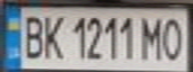1: (118, 12, 139, 61), (66, 12, 87, 61), (103, 12, 121, 61)
2: (84, 12, 106, 61)
B: (18, 11, 48, 60)
K: (39, 11, 66, 61)
M: (139, 14, 169, 61)
O: (160, 14, 190, 62)
